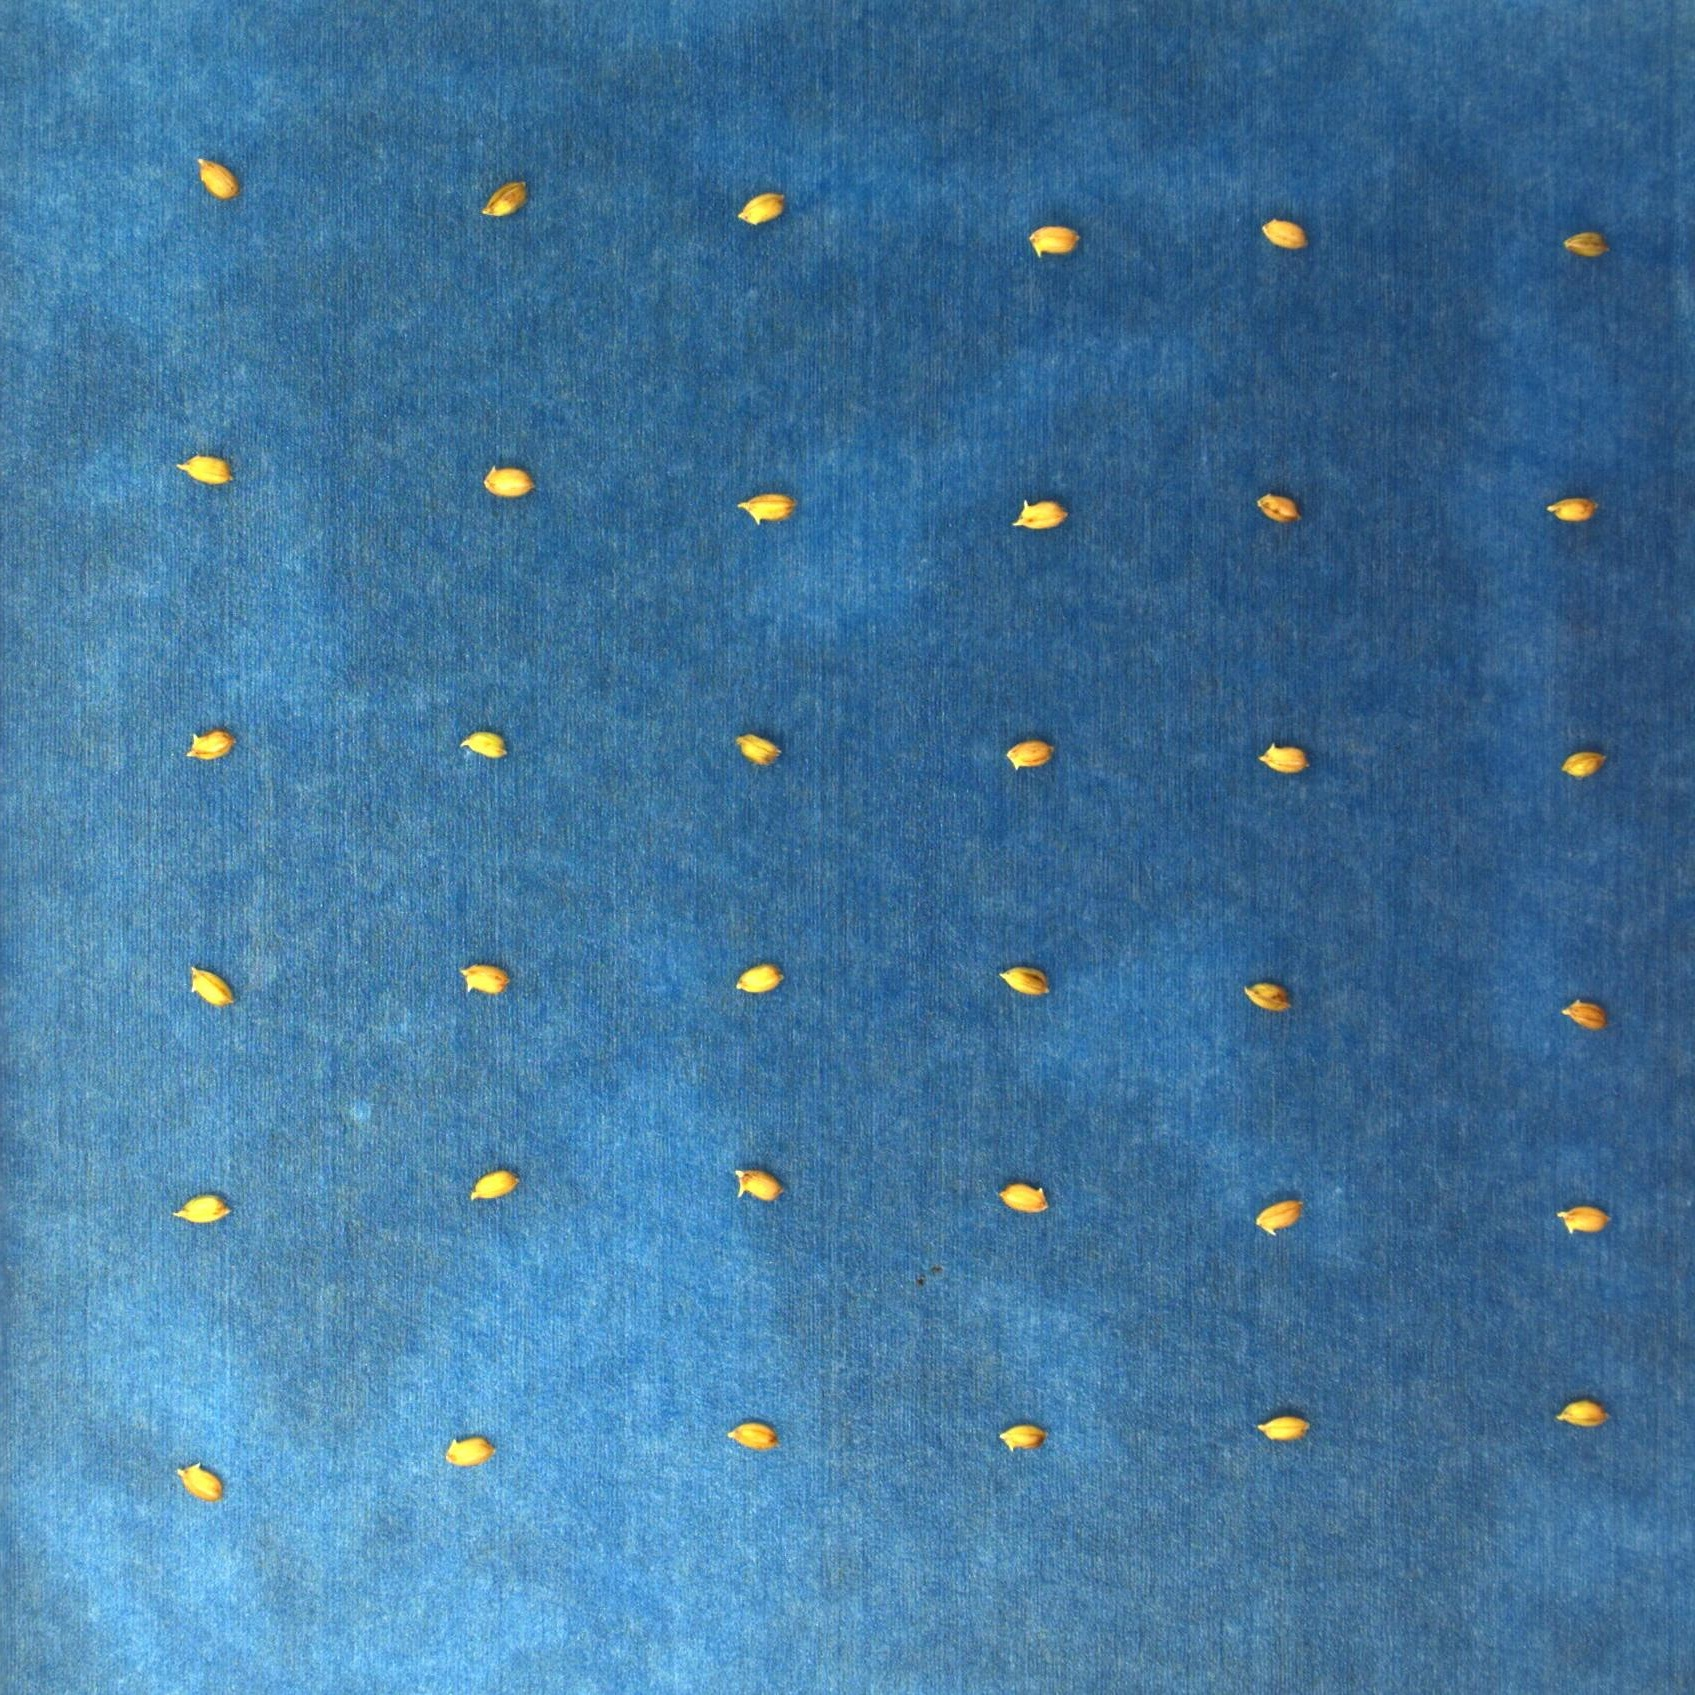not sprout: (1254, 1194, 1309, 1239), (466, 1164, 518, 1206), (455, 961, 511, 1000), (1251, 1409, 1312, 1445), (1552, 1397, 1617, 1430), (993, 964, 1052, 1000), (179, 723, 234, 761), (733, 1166, 784, 1206), (1001, 736, 1059, 771), (186, 969, 239, 1007), (192, 152, 237, 197), (1544, 490, 1603, 525), (175, 452, 231, 487), (480, 177, 528, 217), (733, 726, 781, 767), (174, 1464, 228, 1499), (1256, 740, 1312, 775), (733, 188, 785, 224), (737, 490, 792, 525), (1007, 495, 1066, 526), (441, 1433, 500, 1464), (171, 1191, 231, 1220), (734, 958, 784, 993), (1555, 1203, 1617, 1231), (995, 1181, 1051, 1212), (997, 1420, 1052, 1451), (1260, 214, 1305, 251), (1555, 998, 1607, 1031), (481, 464, 537, 494), (1557, 227, 1605, 261), (463, 726, 511, 761), (1028, 224, 1080, 255), (1555, 753, 1613, 781), (720, 1423, 781, 1450), (1254, 494, 1305, 523), (1240, 986, 1295, 1012)
